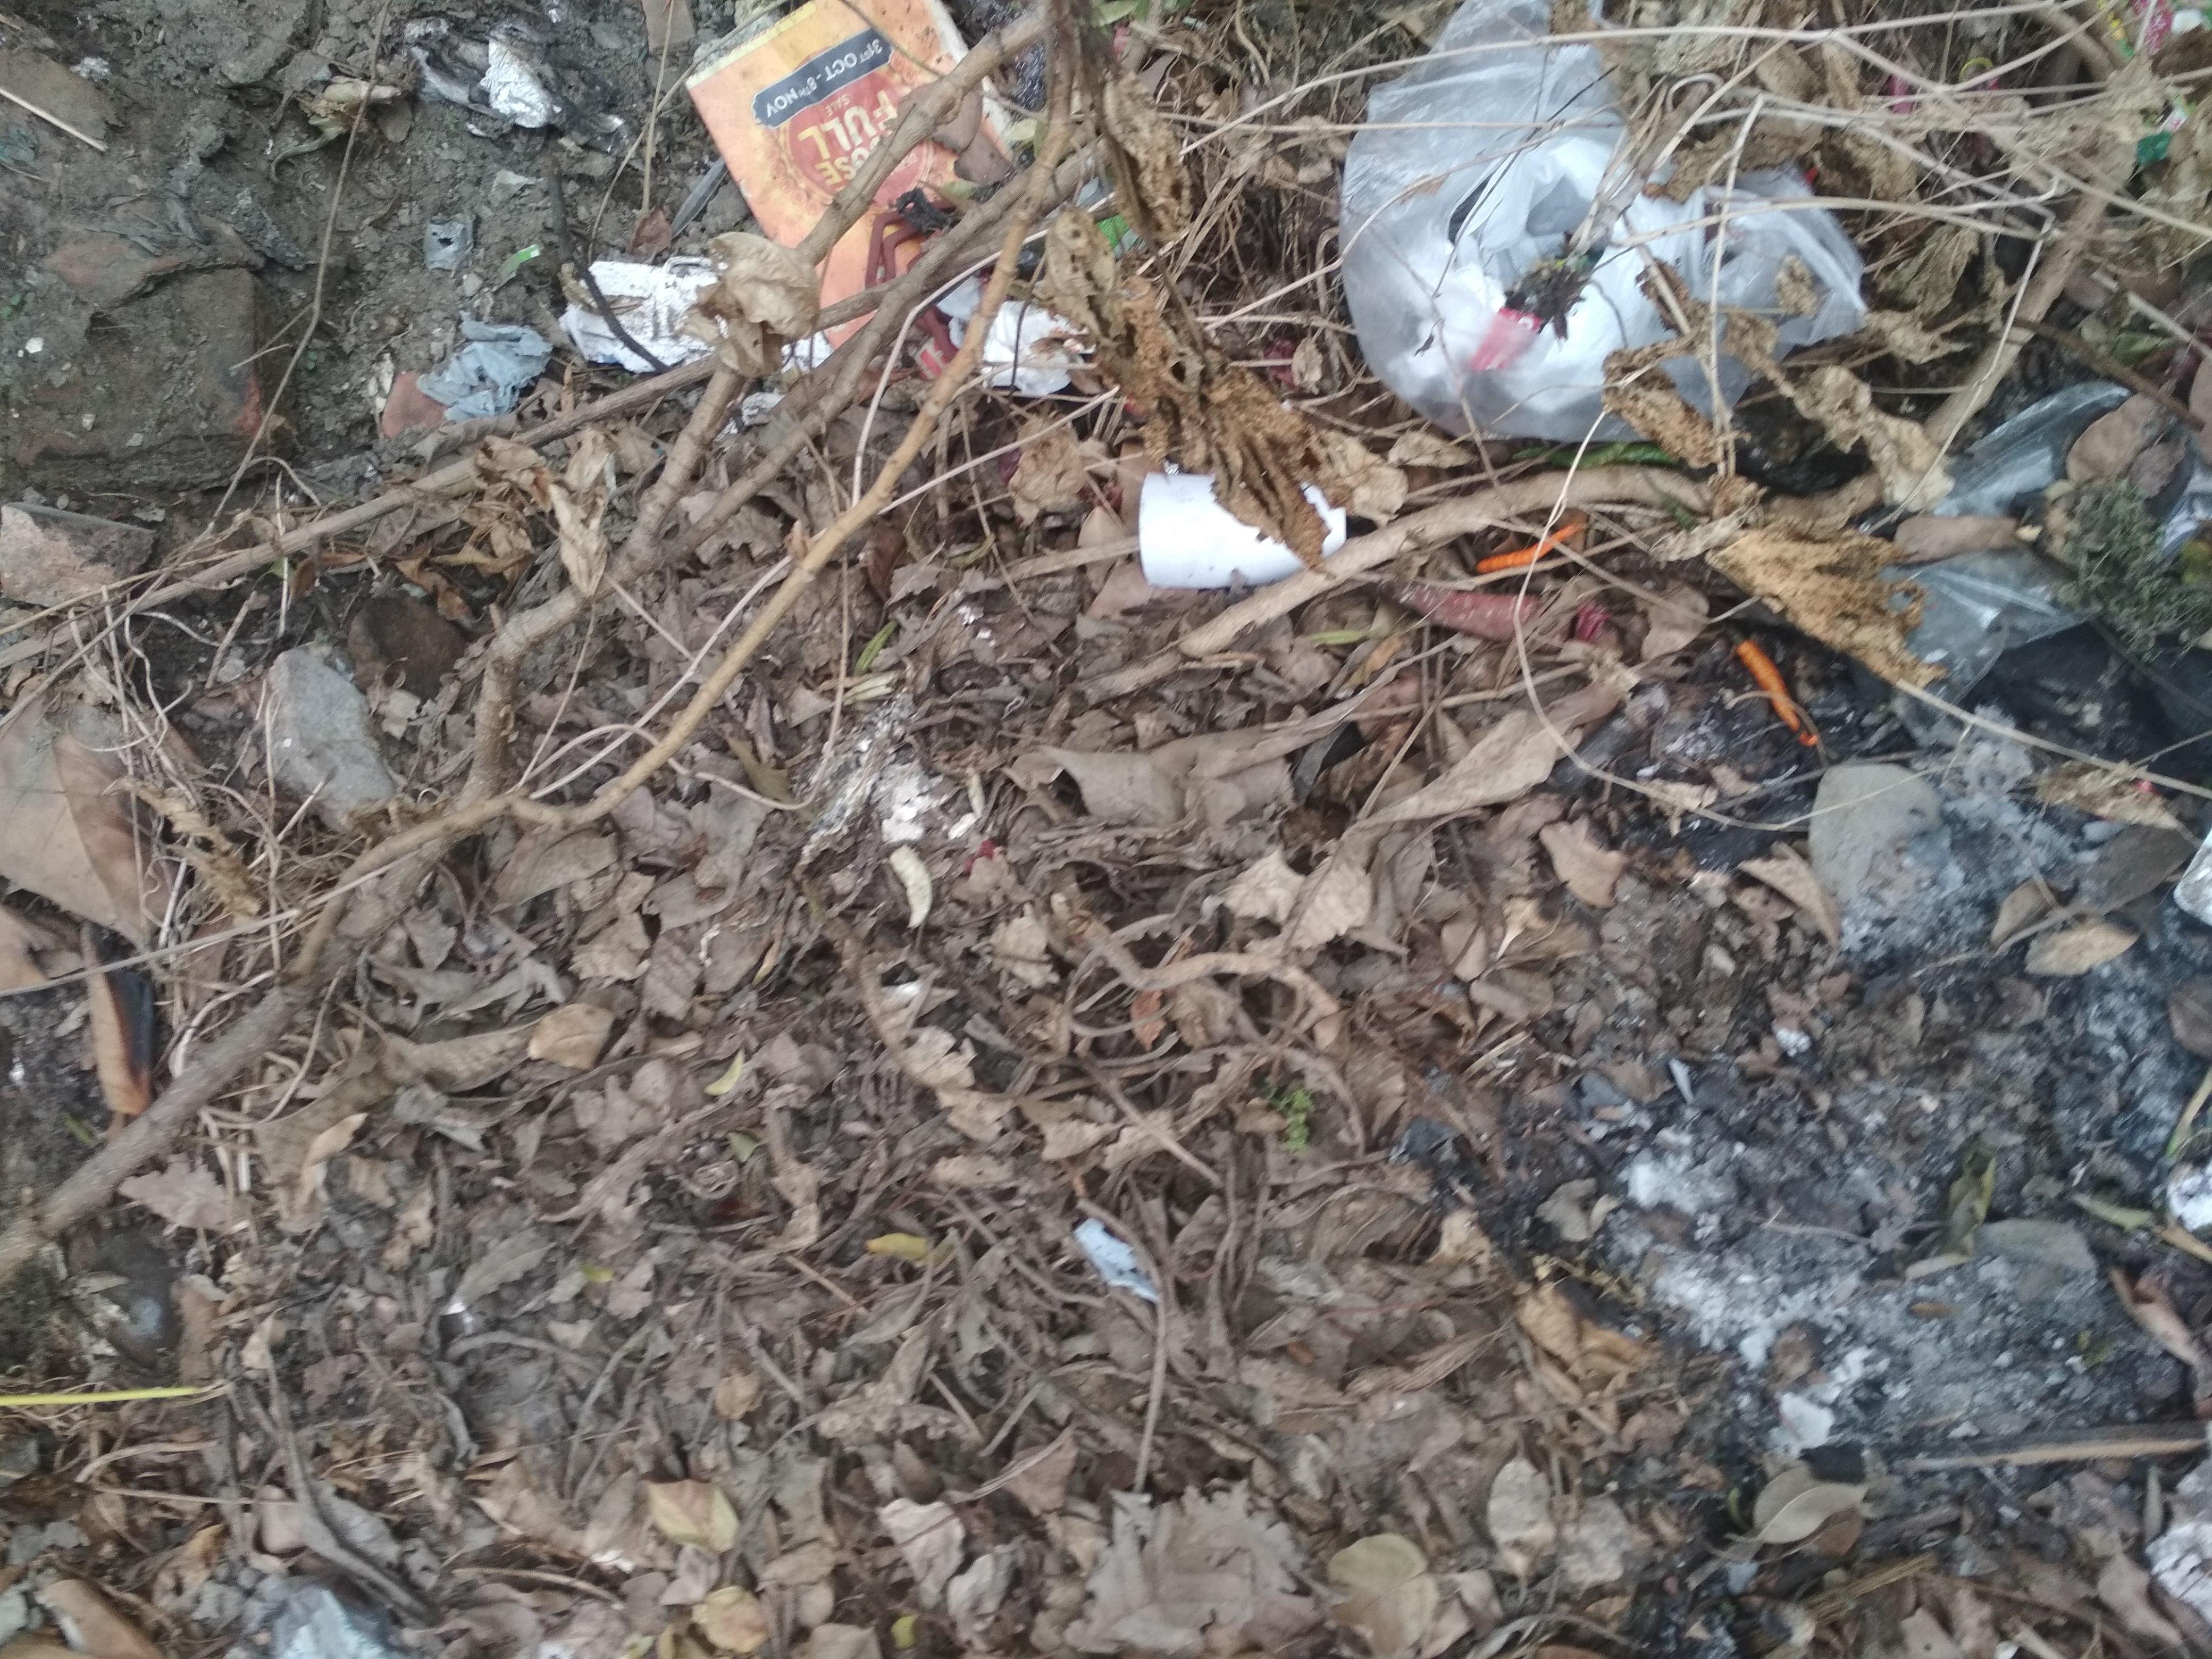organic: (477, 5, 2212, 706)
